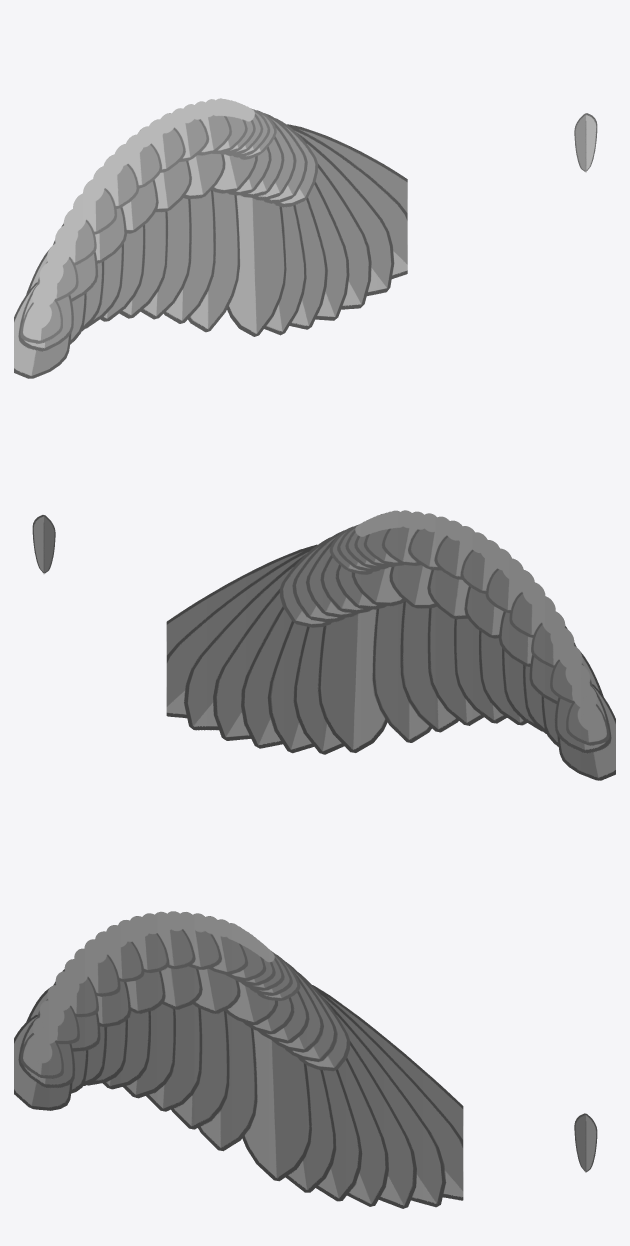
The model's file is SpikeRushFX6.fbx.
3 views of the same model, one above another, from view 1: azimuth 30°, elevation 25°; view 2: azimuth 150°, elevation 25°; view 3: azimuth 330°, elevation 25° (orthographic).
Visible parts, largest first — view 1: FX_Wing, FX_Feather; view 2: FX_Wing, FX_Feather; view 3: FX_Wing, FX_Feather.
Boxes of the visible parts, x1=… form: FX_Wing: x1=14, y1=98, x2=407, y2=378; FX_Feather: x1=574, y1=113, x2=597, y2=172; FX_Wing: x1=166, y1=510, x2=615, y2=780; FX_Feather: x1=32, y1=515, x2=55, y2=573; FX_Wing: x1=14, y1=911, x2=463, y2=1208; FX_Feather: x1=574, y1=1113, x2=597, y2=1172.
Size of the model in its own units: 1000 by 461 by 80.
2 materials, 2 textured.
